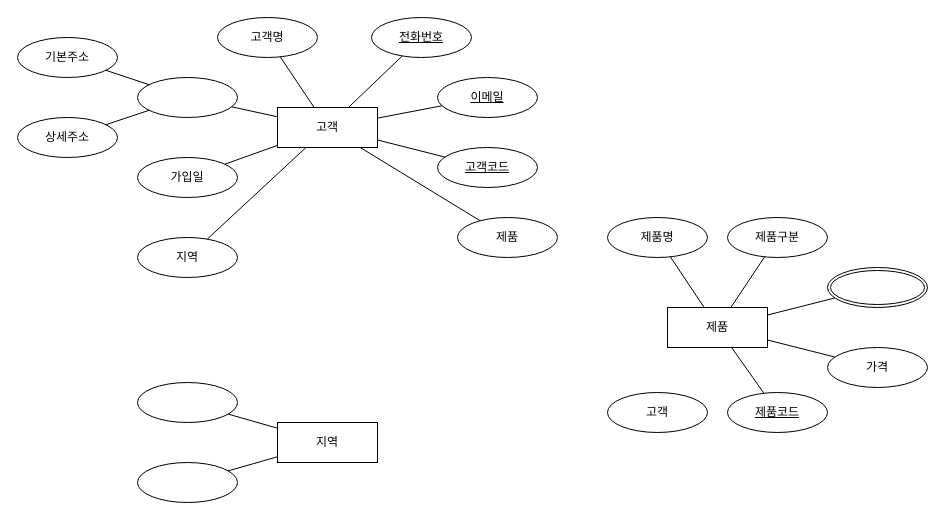
The diagram is 945 pixels wide and 528 high, and some of its shapes have lost their labels. The shapes that lost their labels are listed below. From the top down, each one's centre as x and y in pixels, then its label:
At (187,97): "주소".
At (877,287): "제품색생".
At (187,402): "지역코드".
At (187,482): "지역명".
